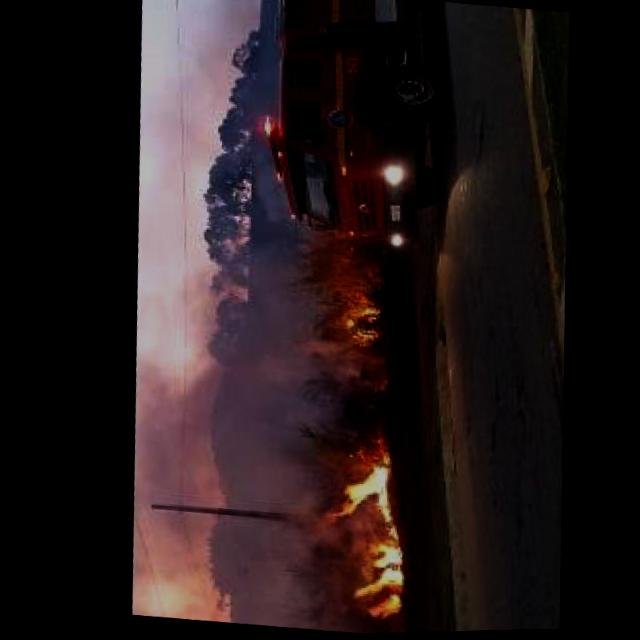Fire: (290, 440, 421, 626), (306, 294, 387, 369)
Smoke: (80, 215, 339, 625)
